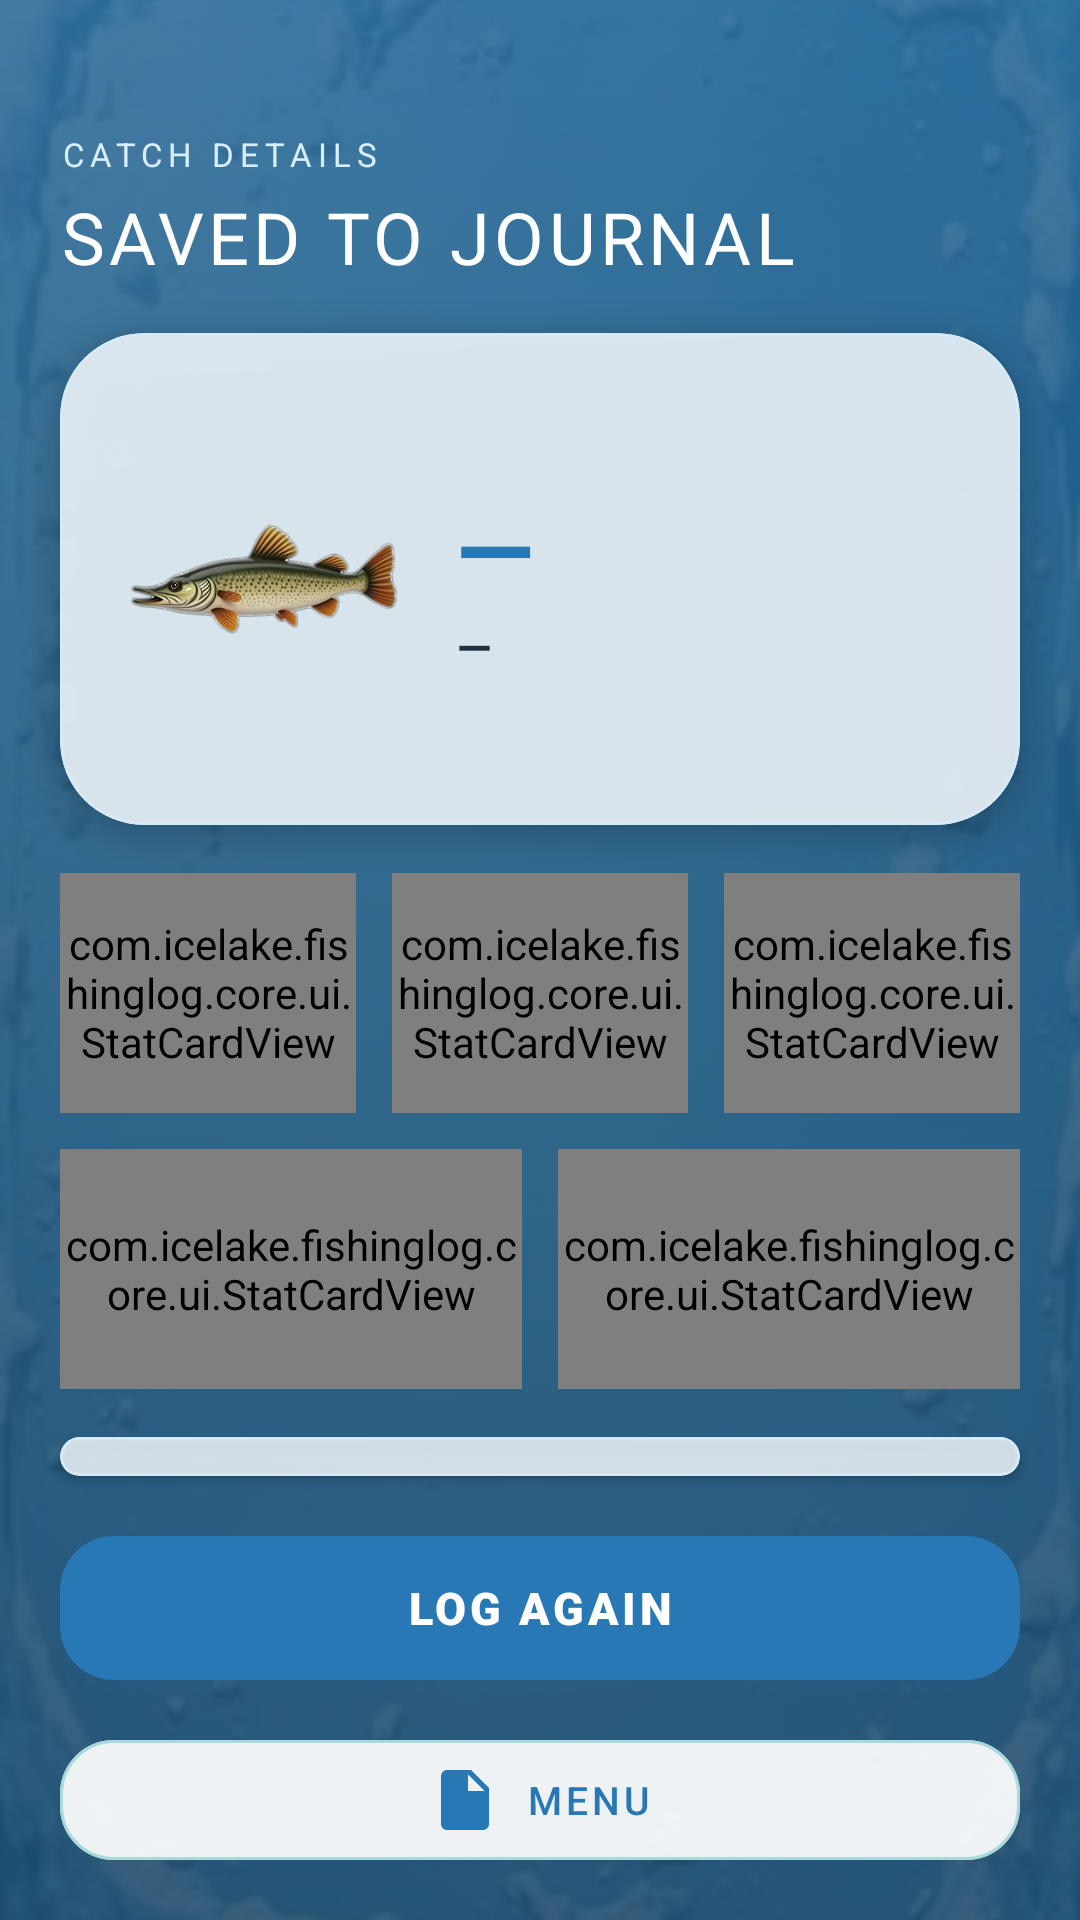

Icons on this 1080×1920 Android screen, each with its box as (x1, y1, x2, y2):
Selected species preview: (131, 525, 397, 633)
